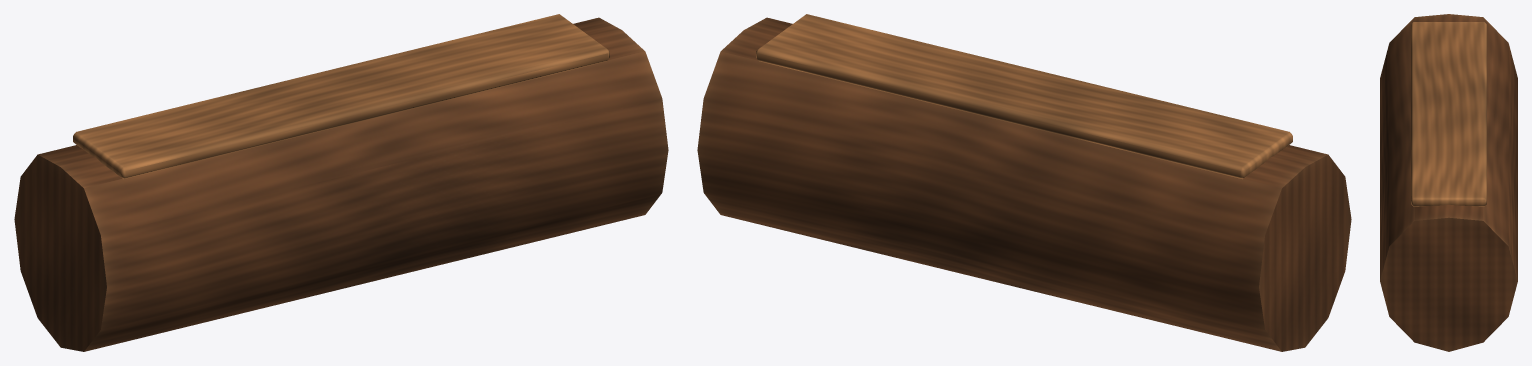
The model's file is Furn_Camp_LogSeat.fbx.
3 renders of one model, left to right at view 1: azimuth 30°, elevation 25°; view 2: azimuth 150°, elevation 25°; view 3: azimuth 270°, elevation 25°, orthographic. The views are drawn at different scales.
Visible parts, largest first — view 1: Furn_Camp_LogSeat; view 2: Furn_Camp_LogSeat; view 3: Furn_Camp_LogSeat.
Part boxes in pixels (x1,y1,x2,y2): Furn_Camp_LogSeat: [14, 14, 668, 351]; Furn_Camp_LogSeat: [697, 14, 1351, 351]; Furn_Camp_LogSeat: [1380, 14, 1517, 351].
Bounding box in the file's own units: 1.4 × 0.45 × 0.4.
Materials: 2 (2 with a texture image).
